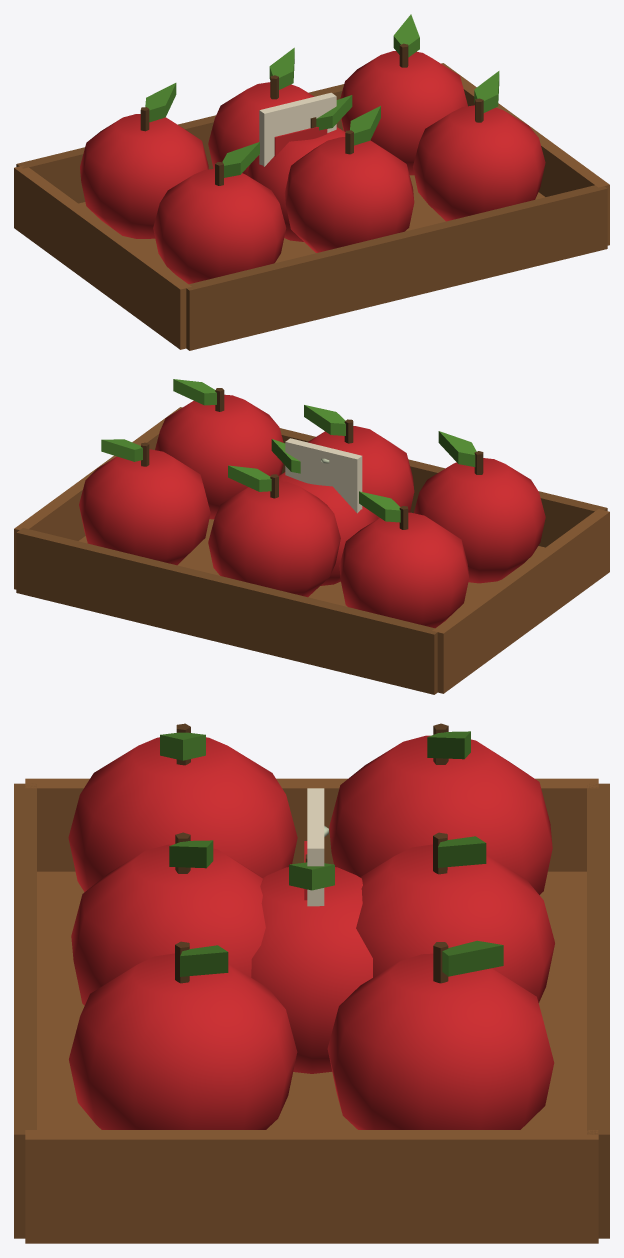
File: Fruit_Apple.fbx
The picture shows the model from 3 angles, top to bottom: view 1: azimuth 30°, elevation 25°; view 2: azimuth 150°, elevation 25°; view 3: azimuth 270°, elevation 25°; orthographic projection. The views are drawn at different scales.
Visible parts, largest first — view 1: Fruit_Apple__Stack, Fruit_Apple__Seed, Fruit_Apple; view 2: Fruit_Apple__Stack, Fruit_Apple__Seed, Fruit_Apple; view 3: Fruit_Apple__Stack, Fruit_Apple, Fruit_Apple__Seed.
Part boxes in pixels (bbox=[...]): Fruit_Apple__Stack: bbox=[14, 14, 609, 350]; Fruit_Apple__Seed: bbox=[259, 92, 336, 166]; Fruit_Apple: bbox=[247, 95, 352, 241]; Fruit_Apple__Stack: bbox=[14, 379, 609, 694]; Fruit_Apple__Seed: bbox=[285, 438, 362, 513]; Fruit_Apple: bbox=[271, 439, 376, 585]; Fruit_Apple__Stack: bbox=[14, 723, 609, 1243]; Fruit_Apple: bbox=[251, 854, 372, 1073]; Fruit_Apple__Seed: bbox=[304, 788, 324, 906].
Size of the model in its own units: 0.298 by 0.0955 by 0.208.
